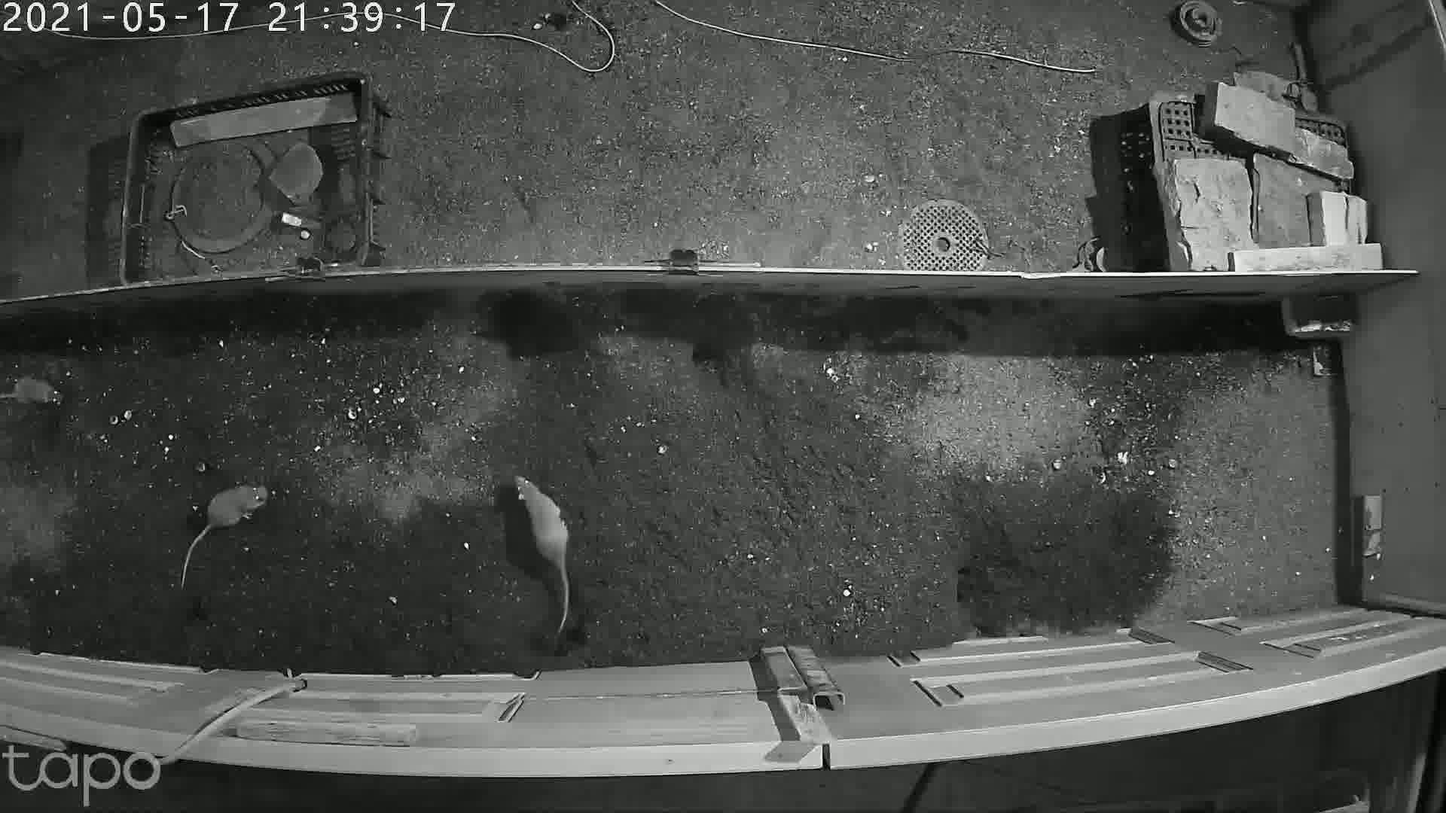rat: (496, 430, 607, 654), (167, 466, 282, 576), (2, 346, 69, 438)
